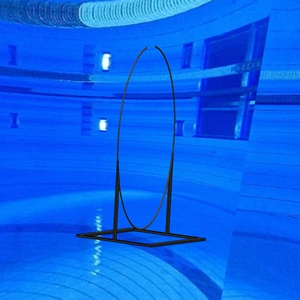circle: (76, 45, 208, 248)
